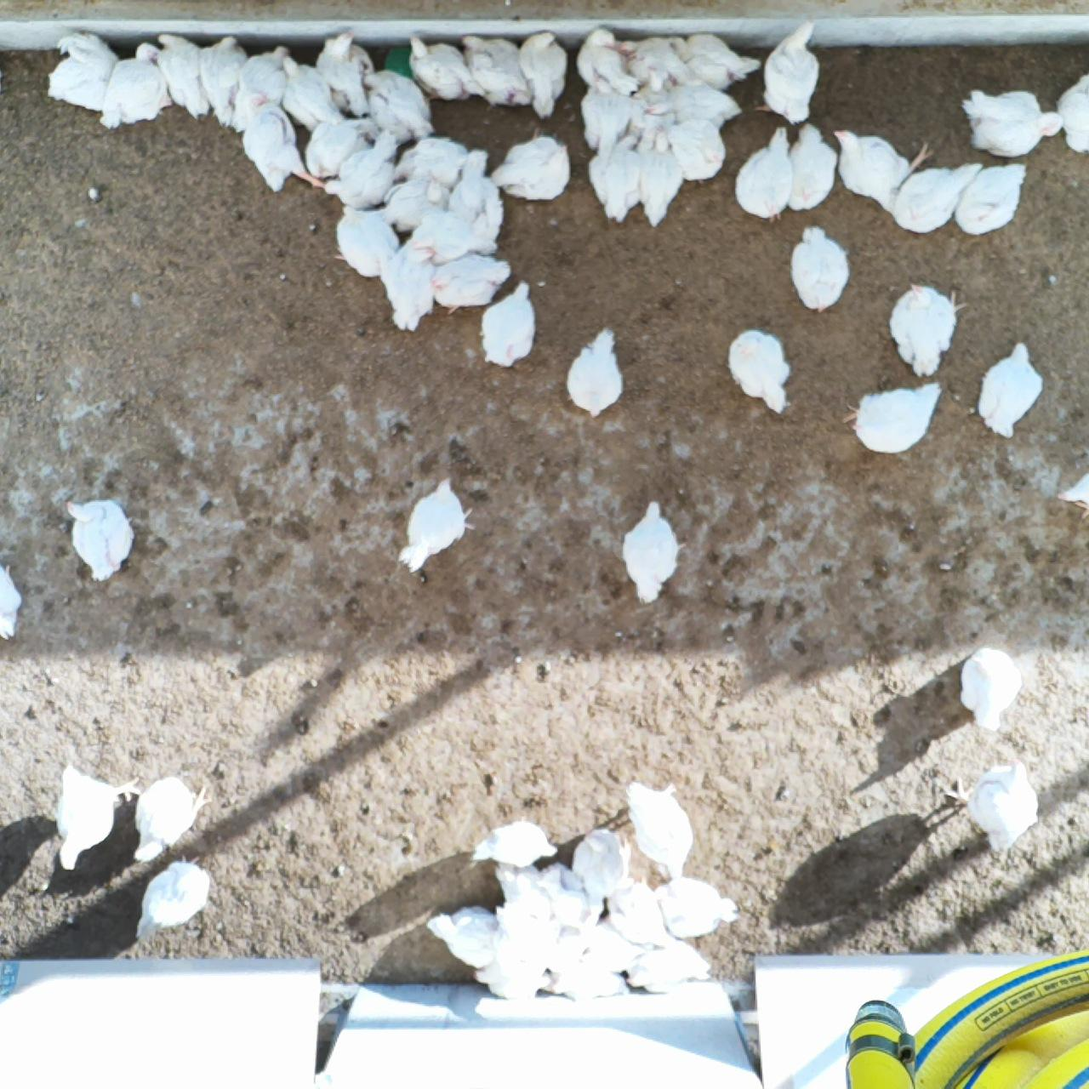chicken: (942, 755, 1051, 857), (50, 759, 143, 873), (883, 278, 970, 380), (840, 377, 950, 454), (238, 90, 324, 188), (397, 473, 480, 574), (831, 127, 930, 211), (752, 17, 827, 124), (960, 86, 1066, 160), (624, 775, 695, 885), (134, 772, 215, 867), (887, 159, 984, 238), (620, 499, 691, 606), (60, 494, 138, 588), (974, 339, 1046, 440), (644, 869, 743, 941), (41, 30, 124, 115), (578, 62, 642, 168), (99, 40, 174, 129), (441, 145, 506, 244), (491, 124, 572, 203), (953, 159, 1035, 237), (228, 43, 294, 138), (727, 326, 794, 418), (789, 221, 854, 315), (733, 125, 792, 227), (376, 236, 436, 336), (667, 32, 762, 95), (326, 203, 404, 279), (355, 67, 434, 142), (564, 324, 626, 419), (640, 78, 743, 135), (140, 854, 213, 934), (320, 145, 402, 216), (459, 31, 535, 107), (313, 33, 379, 120), (585, 133, 646, 227), (623, 936, 715, 998), (572, 825, 628, 925), (620, 61, 680, 154), (155, 31, 217, 121), (369, 171, 455, 235), (480, 275, 539, 368), (273, 55, 344, 132), (402, 209, 505, 262), (616, 32, 701, 96), (960, 642, 1021, 731), (301, 112, 376, 184), (785, 119, 841, 215), (429, 249, 517, 310), (393, 133, 476, 195), (423, 902, 499, 968), (567, 918, 654, 974), (196, 31, 245, 129), (404, 33, 474, 101), (640, 132, 686, 235), (517, 28, 569, 118), (573, 24, 638, 95), (659, 118, 726, 185), (470, 821, 561, 870), (537, 955, 626, 1005), (606, 881, 674, 945), (467, 954, 557, 1002), (489, 858, 556, 917), (489, 926, 560, 971), (538, 862, 587, 920), (1055, 71, 1089, 153), (489, 900, 560, 939), (0, 560, 26, 641), (1056, 467, 1089, 518)
